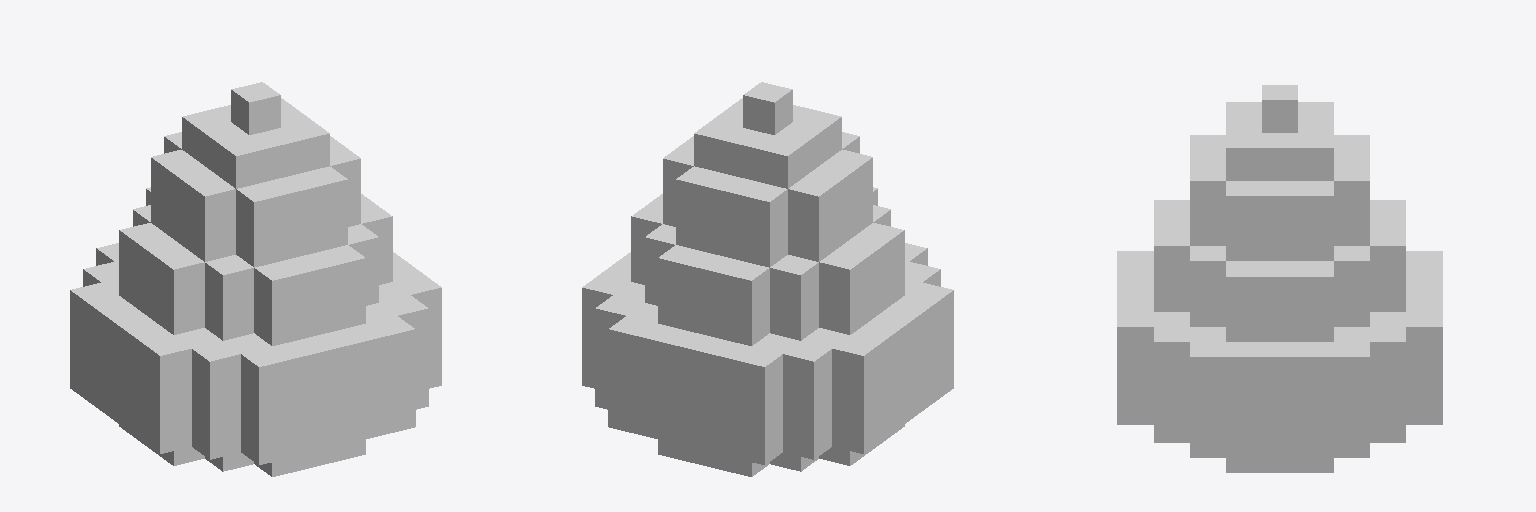
3 renders of one model, left to right at view 1: azimuth 30°, elevation 25°; view 2: azimuth 150°, elevation 25°; view 3: azimuth 270°, elevation 25°, orthographic.
Parts seen in each view (by area): view 1: object 1; view 2: object 1; view 3: object 1.
Boxes of the visible parts, <box> form: object 1: <box>70,82,441,476</box>; object 1: <box>582,82,953,476</box>; object 1: <box>1117,85,1442,472</box>.
Bounding box in the file's own units: 0.9 × 1 × 0.9.
Materials: 1 (1 with a texture image).